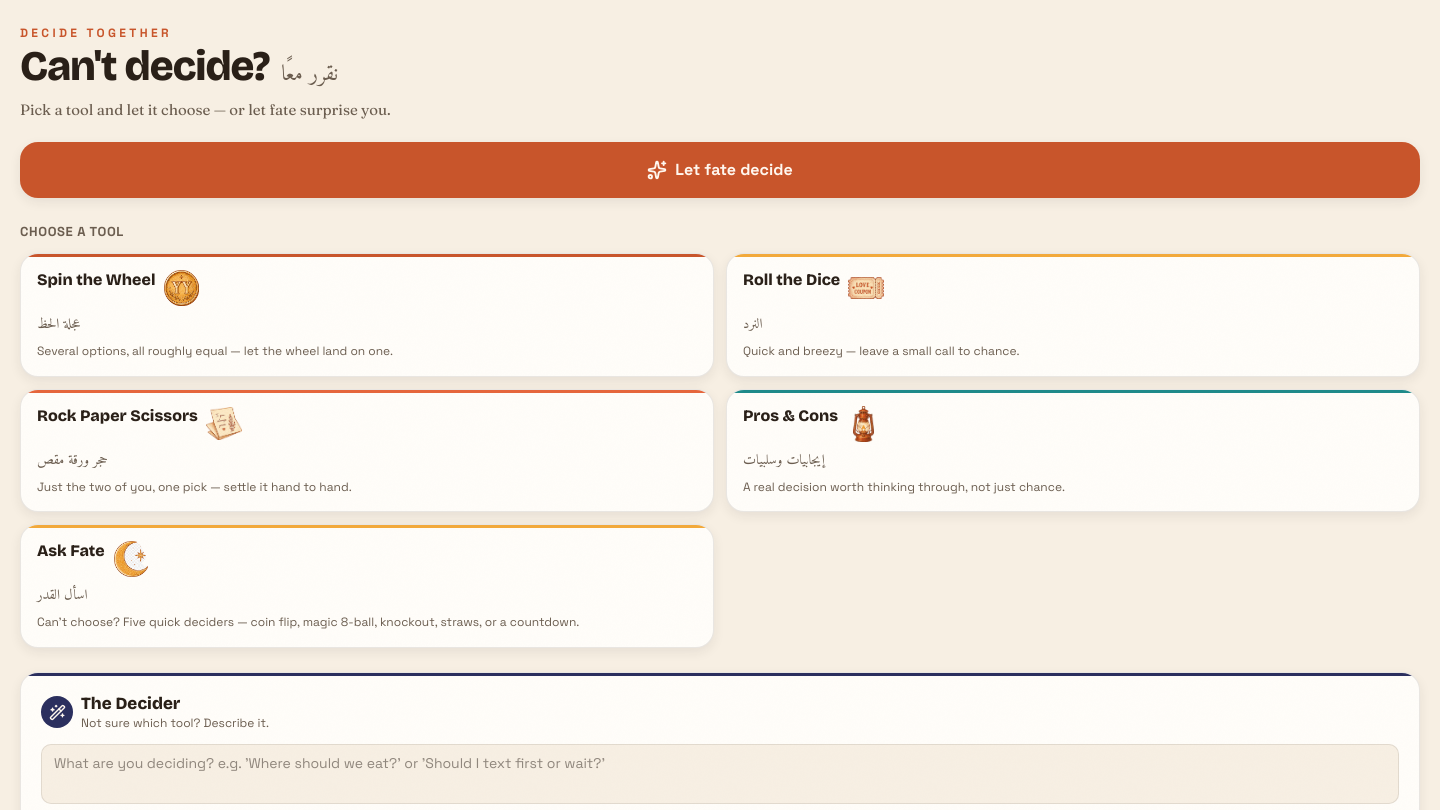
Test: DecideHub › surprise / let fate decide › launches a random tool into setup (game-start appears)
This screenshot has width=1440, height=810.
Click the button with test id "surprise-btn". click: (720, 170)
box: [20, 142, 1420, 198]
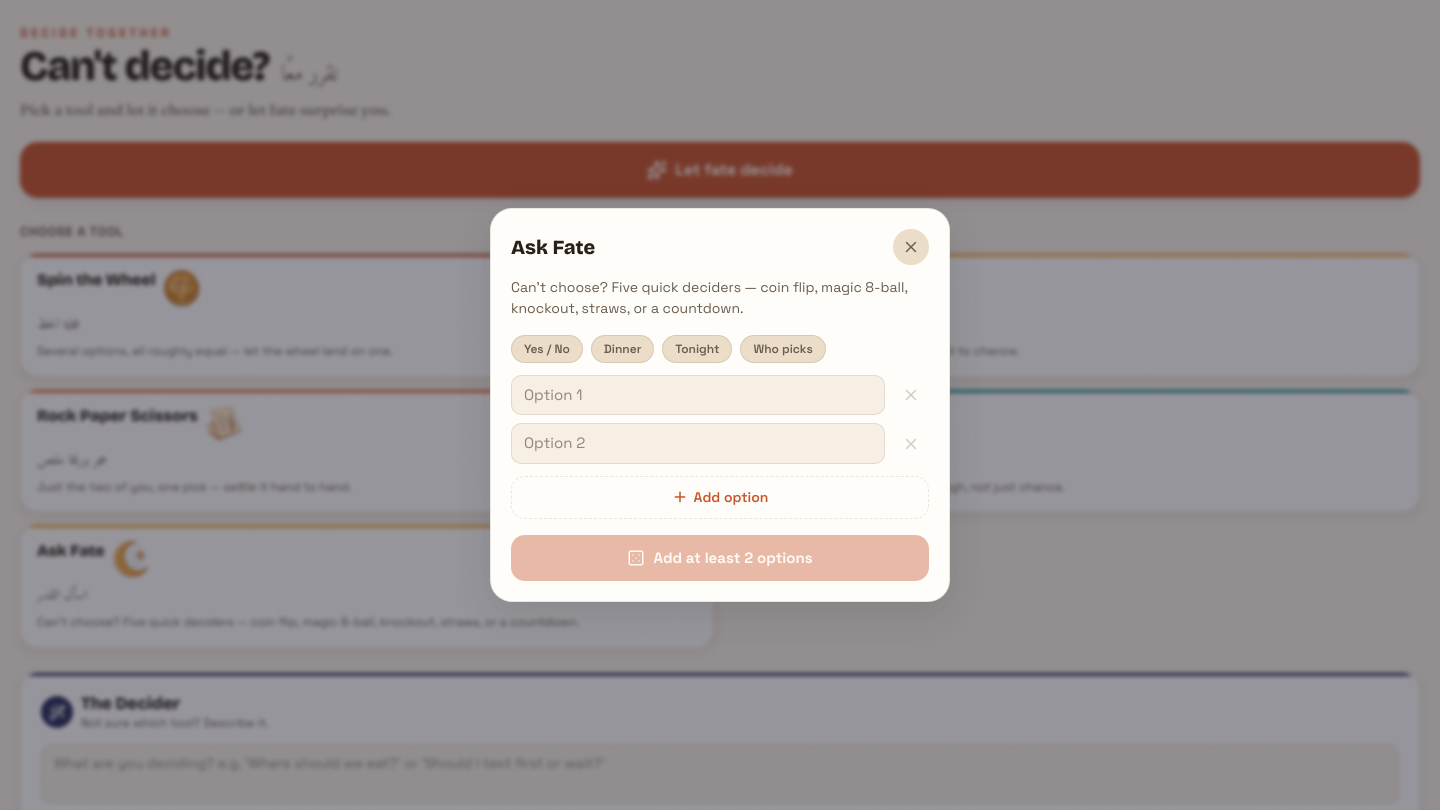
expect the button with test id "game-start" is shown: met, box [511, 535, 929, 581]
expect the button with test id "game-close" is shown: met, box [893, 229, 929, 265]
